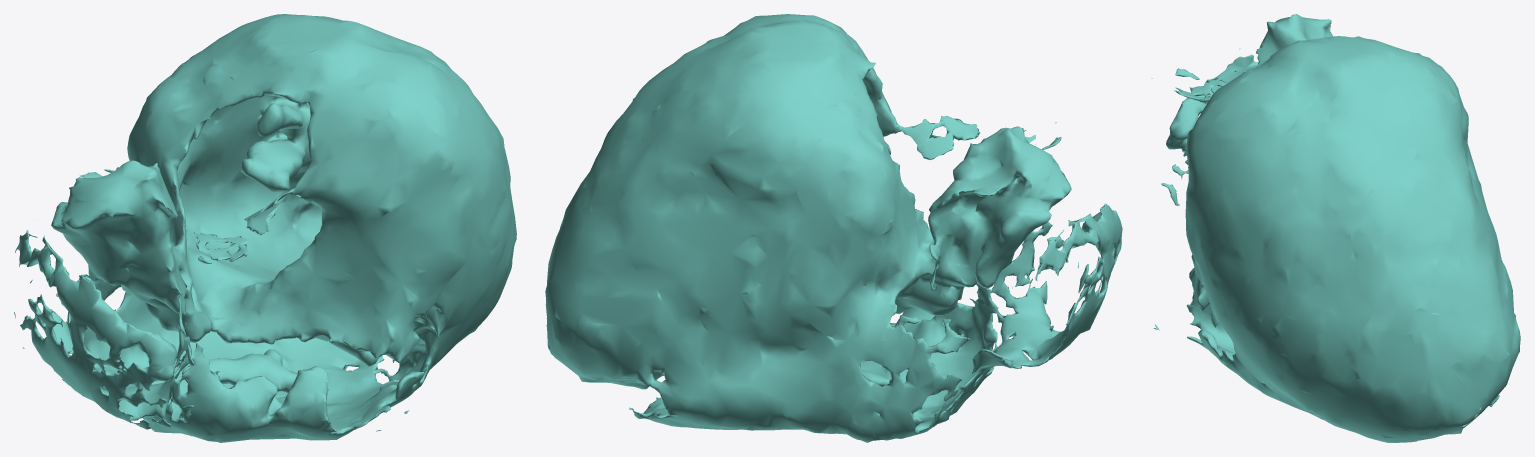
Rendered from heart.glb.
The picture shows the model from 3 angles, left to right: view 1: azimuth 30°, elevation 25°; view 2: azimuth 150°, elevation 25°; view 3: azimuth 270°, elevation 25°; orthographic projection. The views are drawn at different scales.
Visible parts, largest first — view 1: Heart; view 2: Heart; view 3: Heart.
Part boxes in pixels (x1,y1,x2,y2): Heart: (14, 14, 516, 442); Heart: (545, 14, 1122, 442); Heart: (1151, 14, 1520, 442).
Size of the model in its own units: 134 by 97.88 by 92.68.
